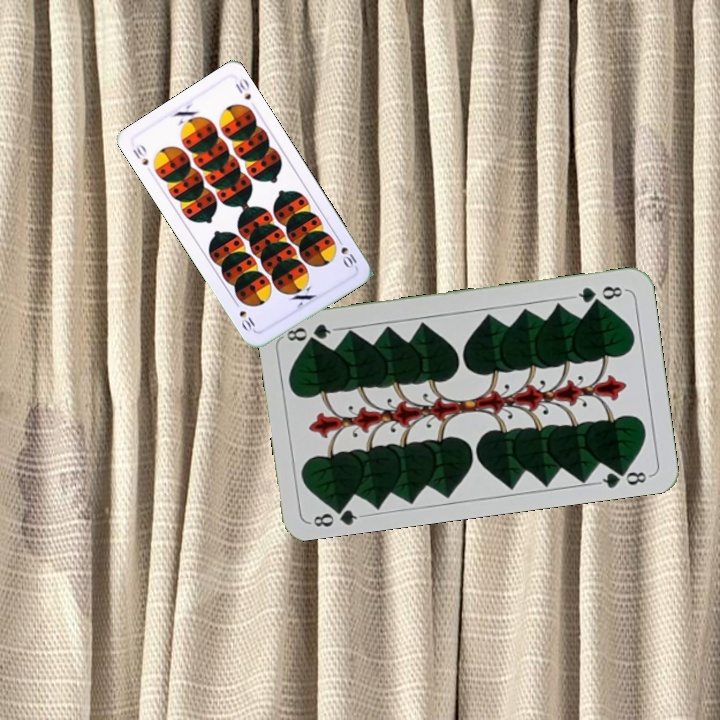G8: (307, 499, 366, 530), (569, 281, 628, 306)
S10: (329, 233, 361, 272), (128, 140, 151, 168)
